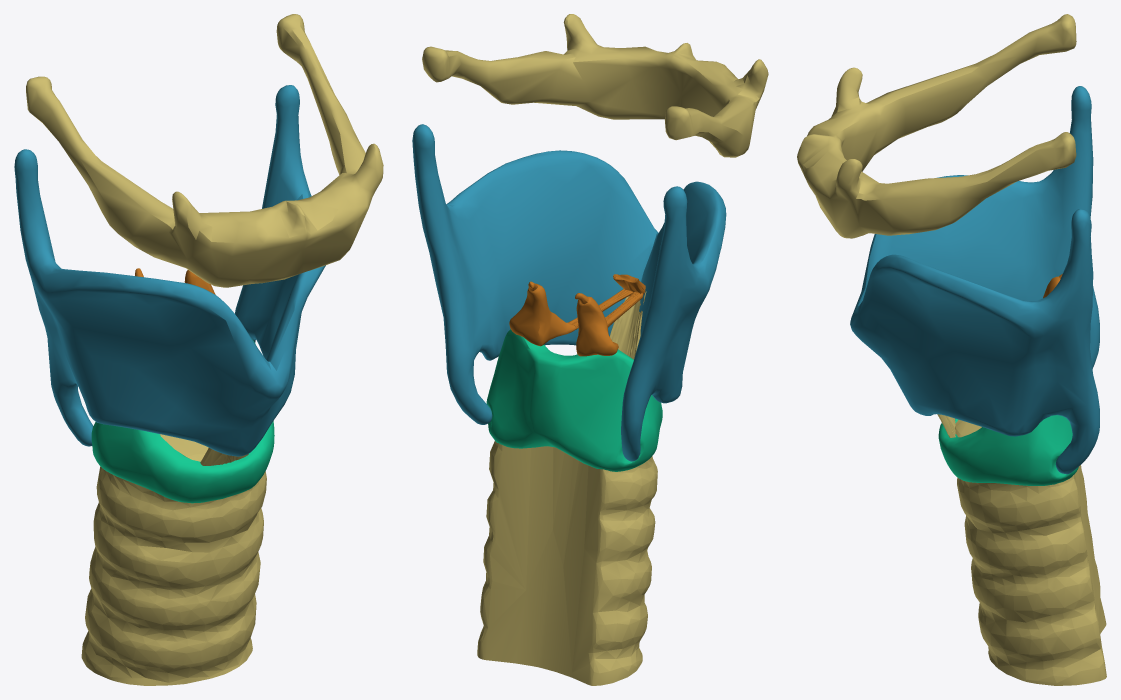
The model's file is fbx_frame_0048.obj.
3 renders of one model, left to right at view 1: azimuth 30°, elevation 25°; view 2: azimuth 150°, elevation 25°; view 3: azimuth 270°, elevation 25°, orthographic. The views are drawn at different scales.
Parts seen in each view (by area): view 1: maya2sketchfab.010, maya2sketchfab.001, maya2sketchfab.011, maya2sketchfab.005; view 2: maya2sketchfab.010, maya2sketchfab.001, maya2sketchfab.011, maya2sketchfab.005, maya2sketchfab.006, maya2sketchfab.004; view 3: maya2sketchfab.010, maya2sketchfab.001, maya2sketchfab.011, maya2sketchfab.005.
Boxes of the visible parts, x1,y1,x2,y2 form: maya2sketchfab.010: (14,85,325,456); maya2sketchfab.001: (81,434,266,685); maya2sketchfab.011: (26,14,383,287); maya2sketchfab.005: (91,339,274,503); maya2sketchfab.010: (412,124,726,461); maya2sketchfab.001: (477,291,657,685); maya2sketchfab.011: (422,14,768,157); maya2sketchfab.005: (486,329,662,471); maya2sketchfab.006: (509,281,576,346); maya2sketchfab.004: (575,293,618,356); maya2sketchfab.010: (850,86,1099,474); maya2sketchfab.001: (937,414,1106,685); maya2sketchfab.011: (797,14,1076,238); maya2sketchfab.005: (938,415,1078,485).
Bounding box in the file's own units: 38.66 × 78.53 × 38.35.
